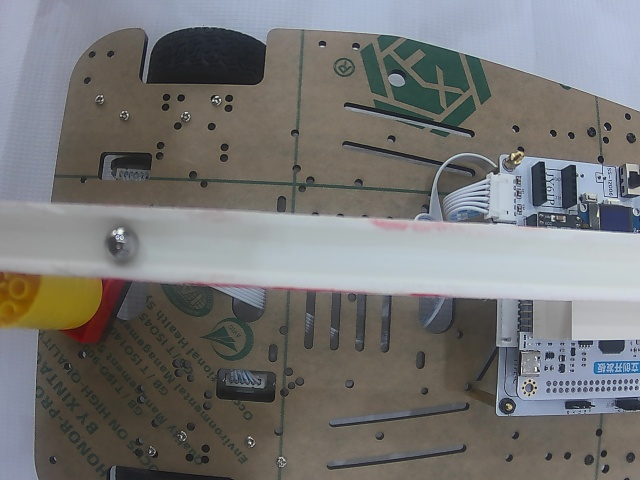steelball: (104, 226, 139, 262)
